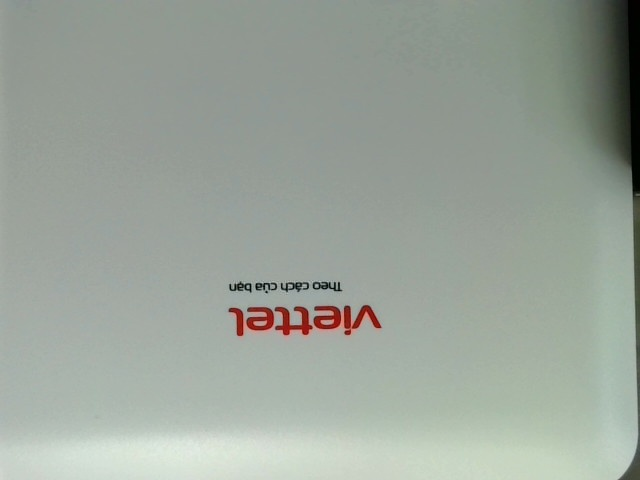AY_Viettel: (221, 274, 383, 346)
